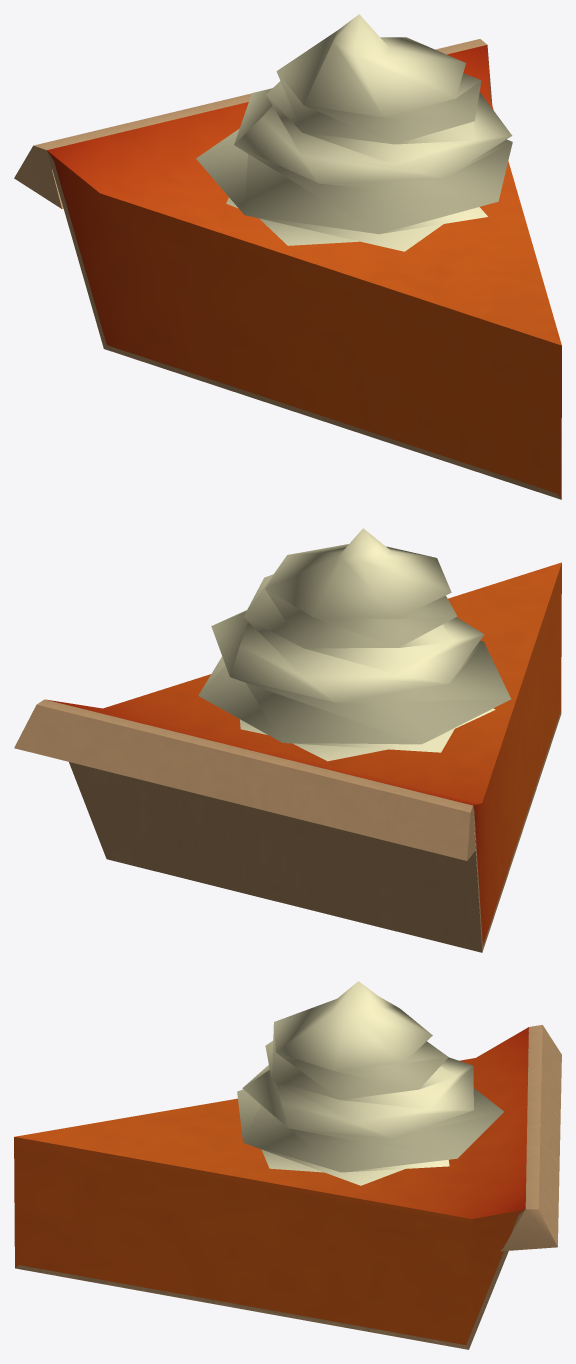
Rendered from Slice_Of_Pie_A.FBX.
The picture shows the model from 3 angles, top to bottom: view 1: azimuth 30°, elevation 25°; view 2: azimuth 150°, elevation 25°; view 3: azimuth 270°, elevation 25°; orthographic projection. The views are drawn at different scales.
Visible parts, largest first — view 1: Slice_Of_Pie; view 2: Slice_Of_Pie; view 3: Slice_Of_Pie.
Part boxes in pixels (x1=…): Slice_Of_Pie: x1=14, y1=14, x2=561, y2=499; Slice_Of_Pie: x1=14, y1=528, x2=561, y2=952; Slice_Of_Pie: x1=14, y1=981, x2=561, y2=1349.
Bounding box in the file's own units: 44.51 × 30.96 × 53.51.
